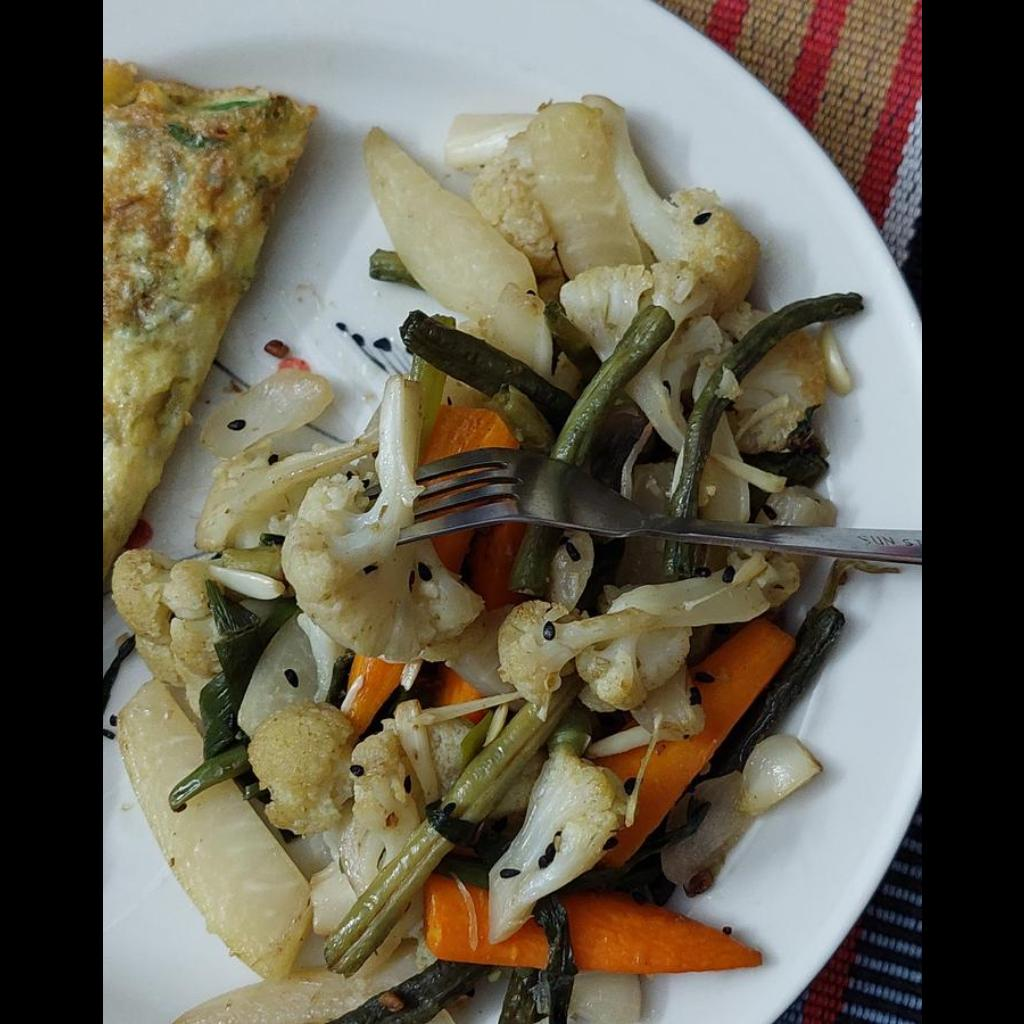egg-poached: (102, 56, 312, 588)
vegetable: (106, 96, 874, 1020)
